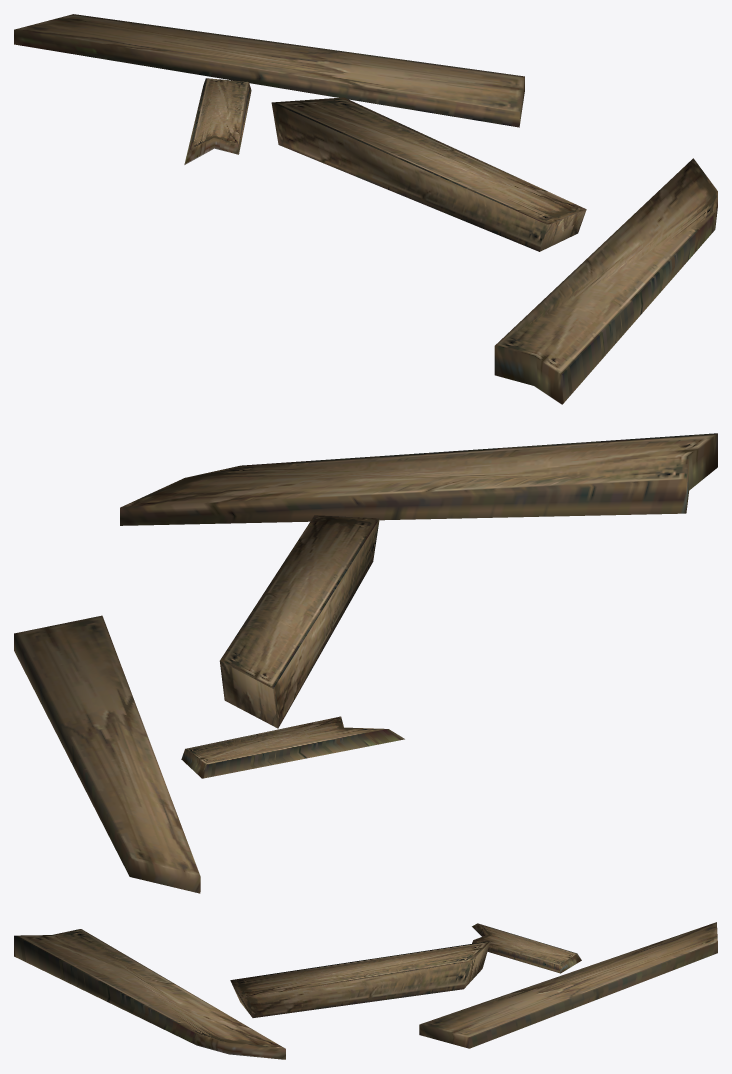
Rendered from S_Build_Cbcl095.FBX.
The picture shows the model from 3 angles, top to bottom: view 1: azimuth 30°, elevation 25°; view 2: azimuth 150°, elevation 25°; view 3: azimuth 270°, elevation 25°; orthographic projection. The views are drawn at different scales.
Visible parts, largest first — view 1: S_Build_Cbcl095; view 2: S_Build_Cbcl095; view 3: S_Build_Cbcl095.
Boxes of the visible parts, x1,y1,x2,y2 form: S_Build_Cbcl095: (14, 14, 717, 404); S_Build_Cbcl095: (14, 433, 717, 893); S_Build_Cbcl095: (14, 922, 717, 1059).
Size of the model in its own units: 209 by 476 by 23.61.
1 material, 1 textured.
